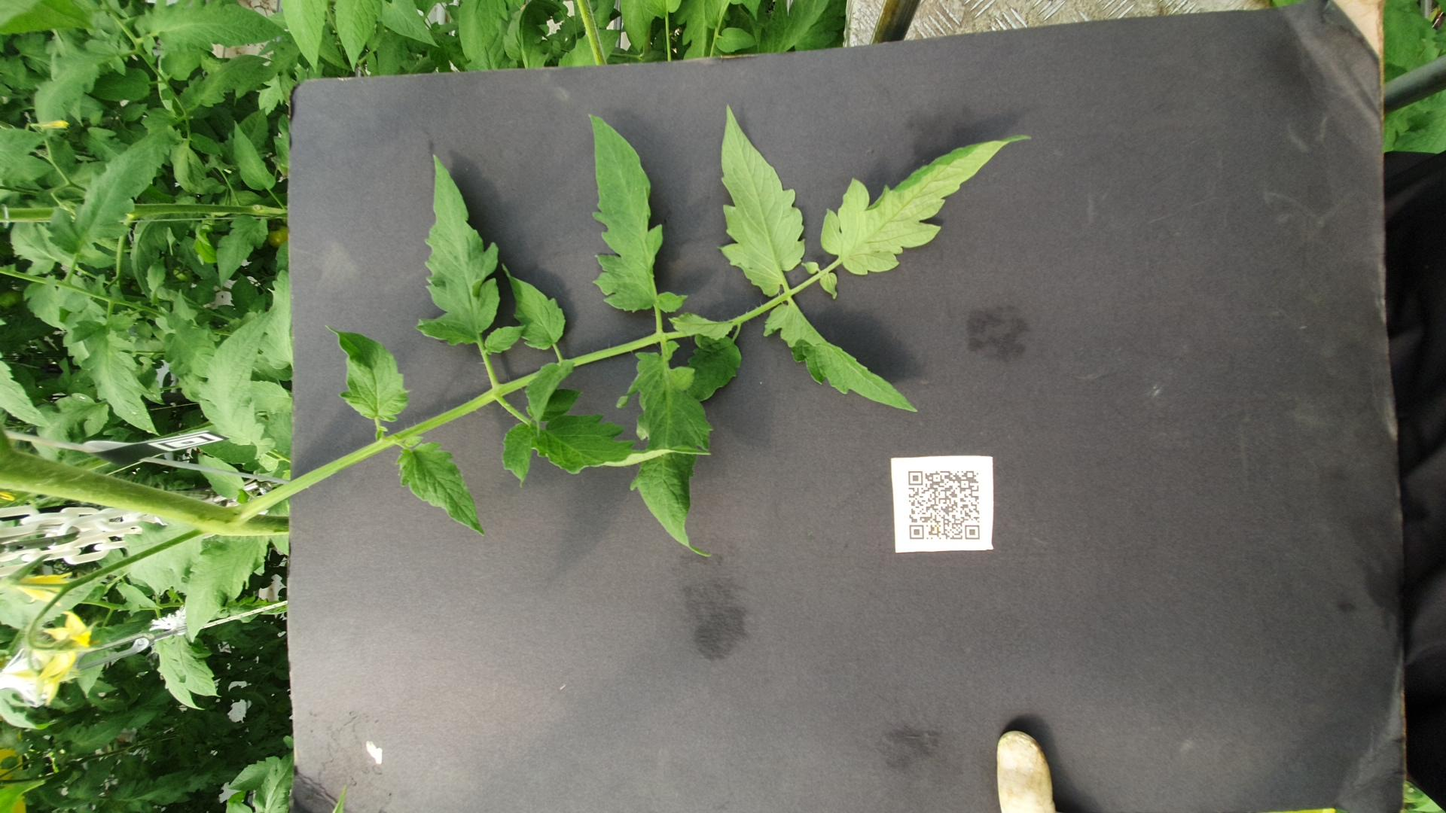Healthy: (957, 461, 1206, 580), (575, 282, 802, 400), (815, 233, 1172, 296), (450, 346, 833, 403), (892, 331, 1238, 387), (916, 402, 1263, 453), (970, 27, 1217, 96), (711, 429, 906, 516), (831, 75, 1098, 119), (630, 111, 893, 155), (301, 103, 495, 152), (489, 221, 658, 274), (690, 182, 868, 232), (1346, 76, 1446, 161), (667, 45, 856, 89), (824, 283, 970, 319), (1253, 101, 1350, 154), (1044, 84, 1179, 114), (934, 122, 1064, 151), (1315, 187, 1446, 214), (1316, 158, 1446, 184), (1106, 131, 1235, 155), (1326, 313, 1395, 349), (557, 110, 637, 138), (1266, 49, 1326, 85), (621, 111, 666, 144), (1352, 402, 1397, 425)
